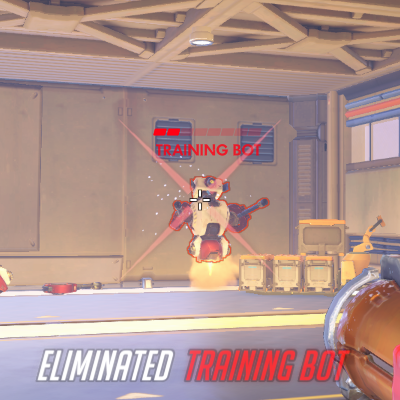hpbar: (153, 128, 262, 136)
